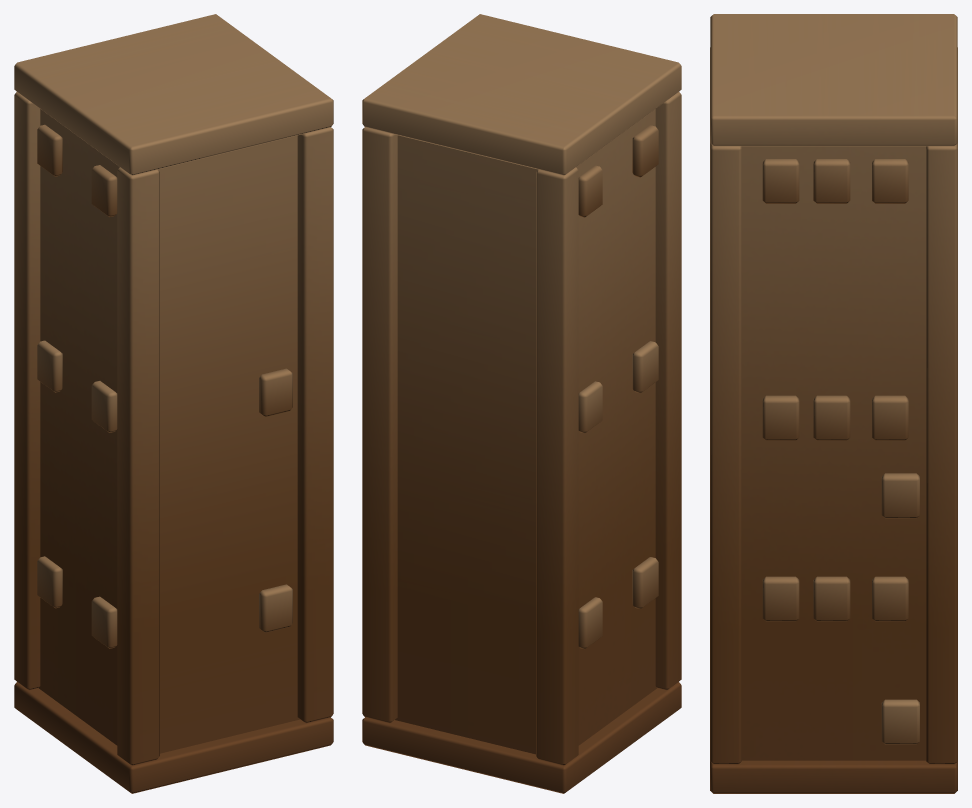
The model's file is SM_Clay_Body_04.fbx.
The picture shows the model from 3 angles, left to right: view 1: azimuth 30°, elevation 25°; view 2: azimuth 150°, elevation 25°; view 3: azimuth 270°, elevation 25°; orthographic projection. The views are drawn at different scales.
Parts seen in each view (by area): view 1: SM_Clay_Body_04; view 2: SM_Clay_Body_04; view 3: SM_Clay_Body_04.
Boxes of the visible parts, x1,y1,x2,y2 form: SM_Clay_Body_04: [14, 14, 333, 793]; SM_Clay_Body_04: [362, 14, 681, 793]; SM_Clay_Body_04: [710, 14, 957, 793].
Size of the model in its own units: 0.9992 by 2.99 by 0.991.
